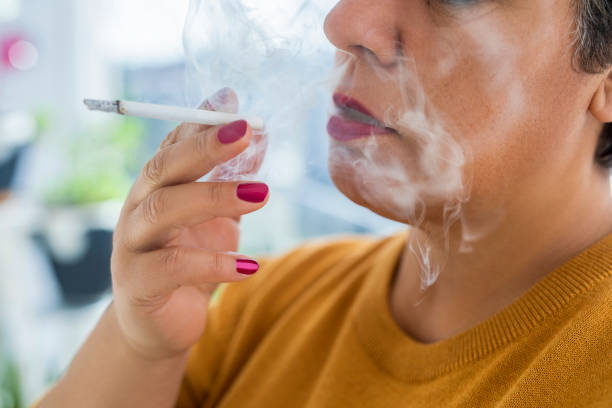cigarette: (81, 92, 269, 130)
